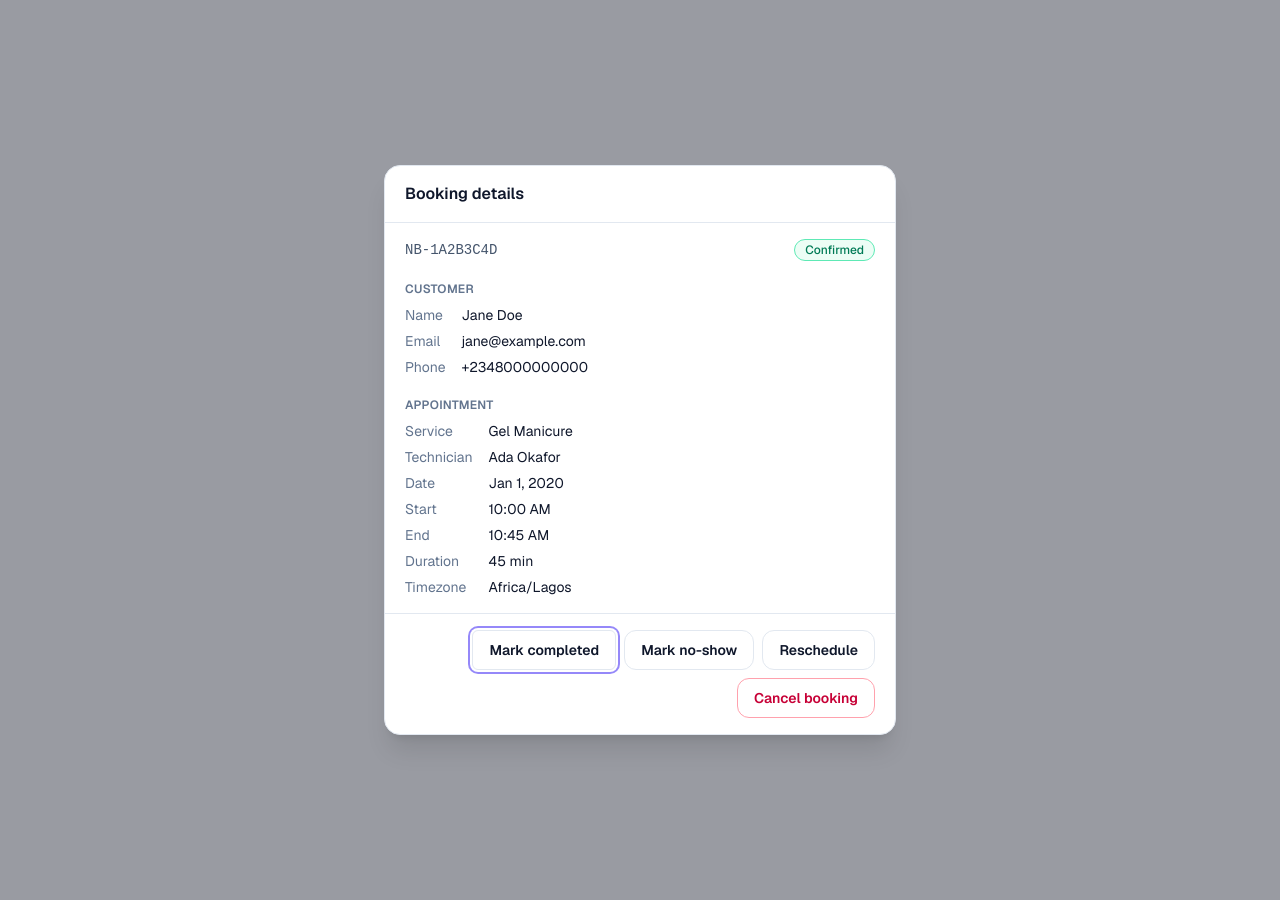
Test: BookingDetailDialog — No-show flow › on failure, preserves CONFIRMED and shows an inline error
Click the button "Mark no-show".
click(689, 650)  # box [624,630,754,670]
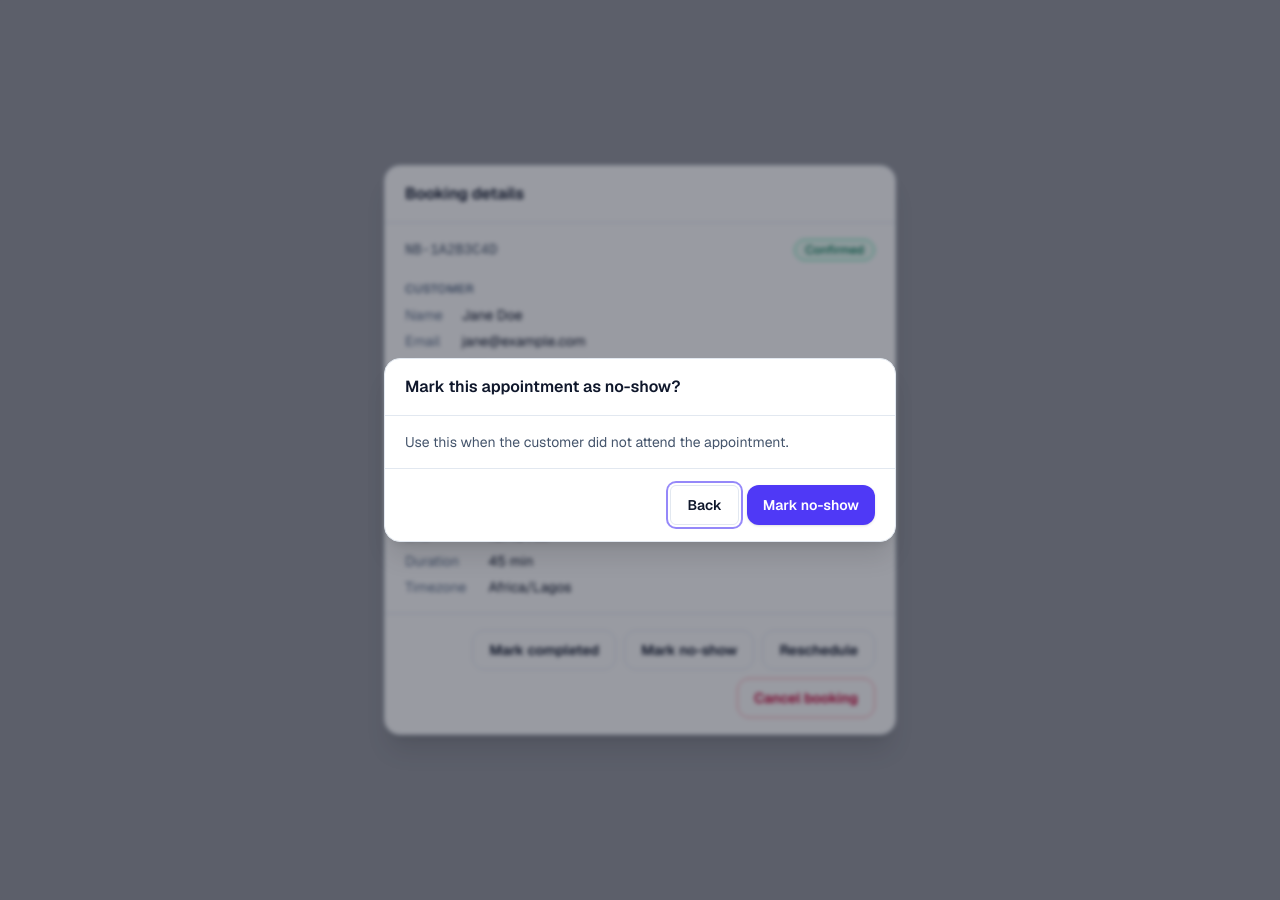
Click the button "Mark no-show".
click(811, 505)  # box [747,485,875,525]
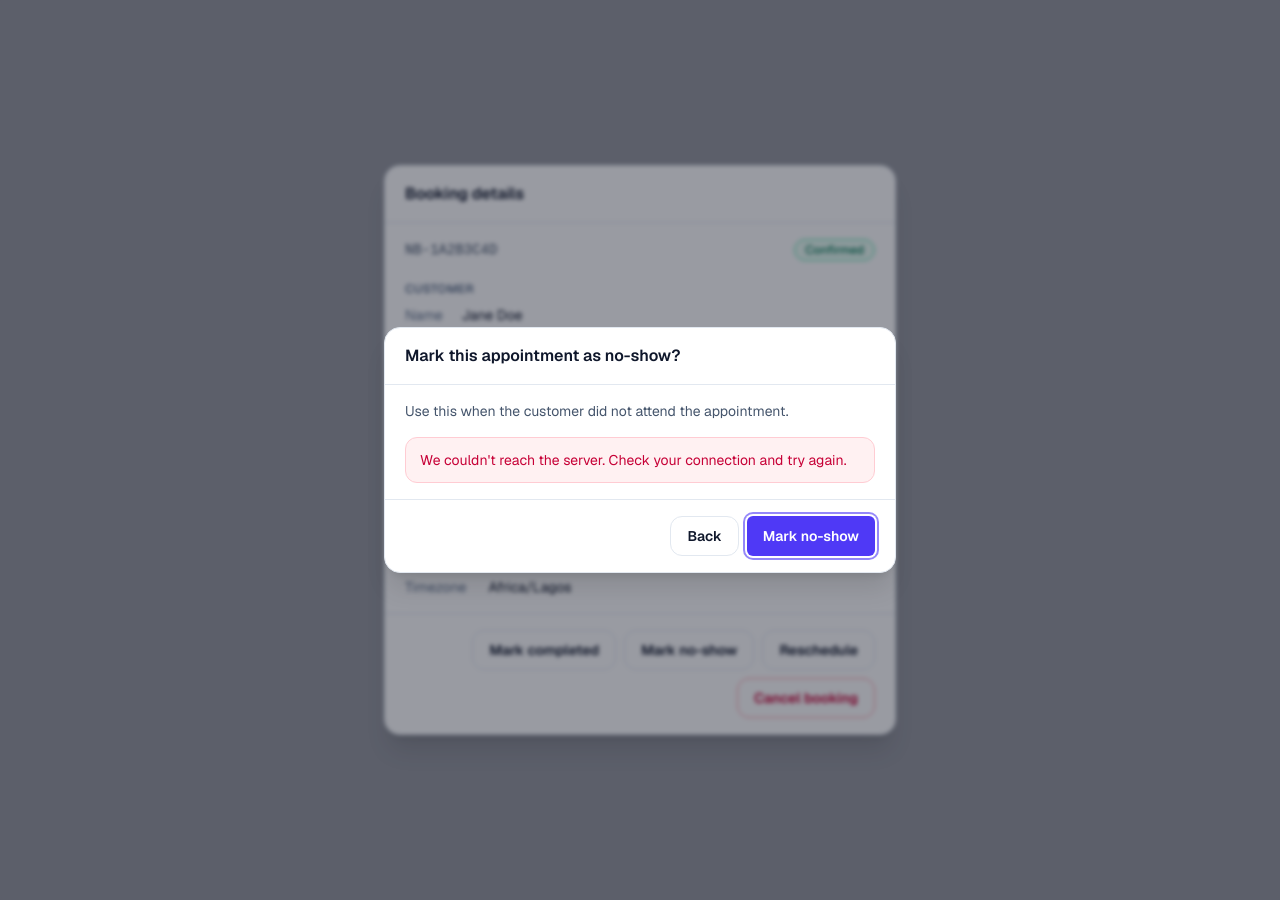
expect the text "Confirmed" is shown: met, box [794,239,875,261]
expect the message "We couldn't reach the server. Check your connection and try again." is shown: met, box [405,437,875,483]
